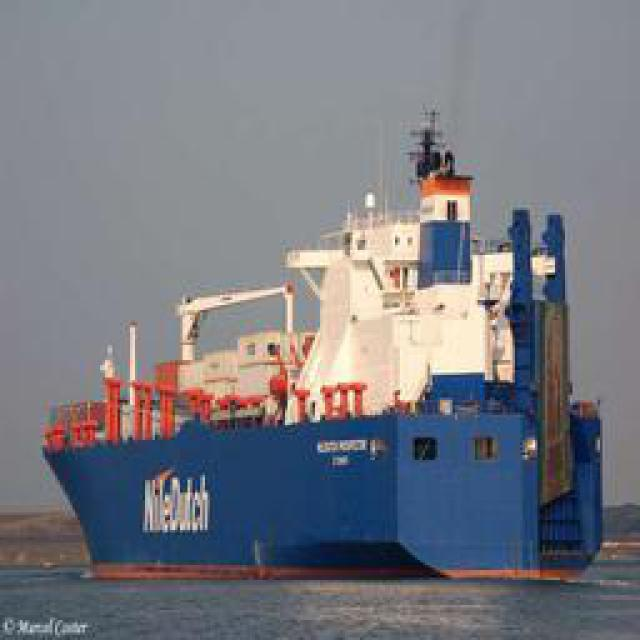Ship: (29, 117, 622, 585)
